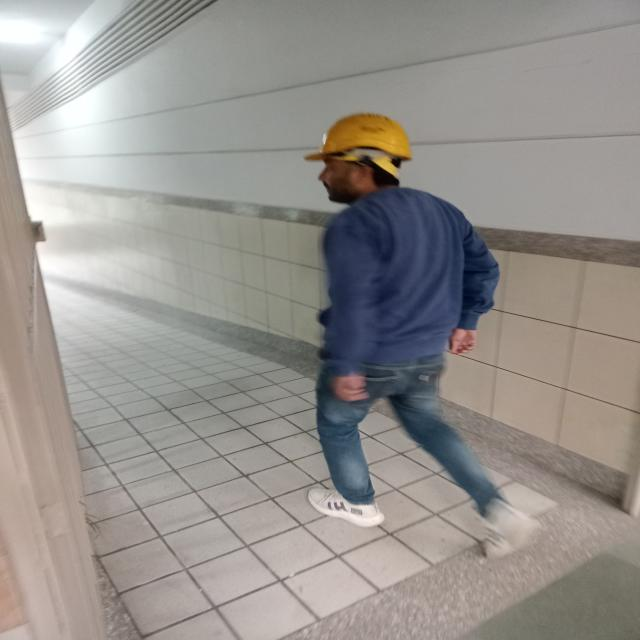no jacket: (288, 111, 543, 556)
